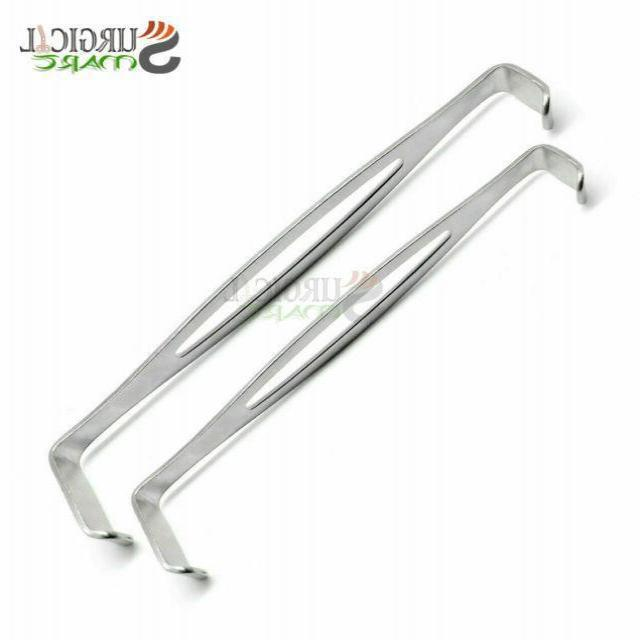Army_navy: (46, 58, 554, 551), (128, 141, 587, 580)
